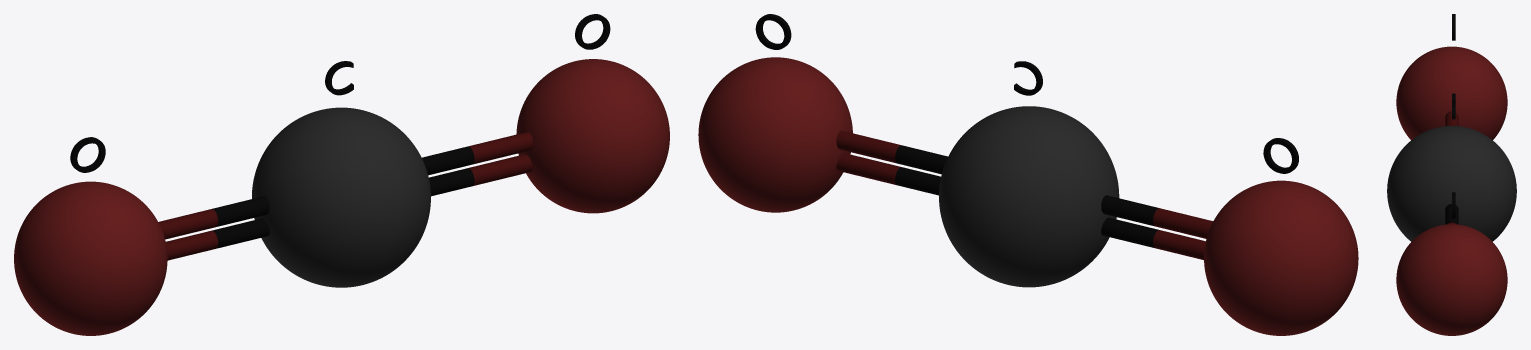
The picture shows the model from 3 angles, left to right: view 1: azimuth 30°, elevation 25°; view 2: azimuth 150°, elevation 25°; view 3: azimuth 270°, elevation 25°; orthographic projection. The views are drawn at different scales.
Parts seen in each view (by area): view 1: Sphere, Sphere.002, Sphere.001, Cylinder.007, Cylinder.005, Cylinder.002, Cylinder.003, Cylinder.001, Cylinder.000, Cylinder.006, Cylinder.004, Text.001 (+1 smaller); view 2: Sphere, Sphere.002, Sphere.001, Cylinder.007, Cylinder.005, Cylinder.002, Cylinder.003, Cylinder.001, Cylinder.000, Cylinder.006, Cylinder.004, Text.001 (+1 smaller); view 3: Sphere, Sphere.001, Sphere.002, Cylinder.006, Cylinder.002.
Boxes of the visible parts, box(x1,y1,x2,y2) form: Sphere: box(252, 107, 430, 287); Sphere.002: box(14, 181, 167, 335); Sphere.001: box(516, 59, 669, 213); Cylinder.007: box(469, 132, 532, 164); Cylinder.005: box(469, 154, 532, 185); Cylinder.002: box(158, 209, 218, 239); Cylinder.003: box(212, 196, 269, 226); Cylinder.001: box(212, 218, 269, 248); Cylinder.000: box(165, 230, 218, 260); Cylinder.006: box(422, 146, 474, 175); Cylinder.004: box(429, 168, 474, 196); Text.001: box(70, 137, 105, 172); Sphere: box(939, 106, 1119, 287); Sphere.002: box(1204, 180, 1358, 335); Sphere.001: box(698, 57, 852, 212); Cylinder.007: box(836, 130, 900, 163); Cylinder.005: box(836, 153, 900, 185); Cylinder.002: box(1153, 208, 1212, 238); Cylinder.003: box(1101, 195, 1159, 226); Cylinder.001: box(1101, 217, 1158, 247); Cylinder.000: box(1153, 230, 1205, 259); Cylinder.006: box(895, 145, 947, 174); Cylinder.004: box(895, 167, 940, 195); Text.001: box(1263, 138, 1298, 173); Sphere: box(1387, 126, 1516, 241); Sphere.001: box(1396, 224, 1507, 335); Sphere.002: box(1396, 46, 1507, 139); Cylinder.006: box(1445, 204, 1458, 224); Cylinder.002: box(1445, 111, 1458, 126).
Size of the model in its own units: 311 by 101 by 76.02.
